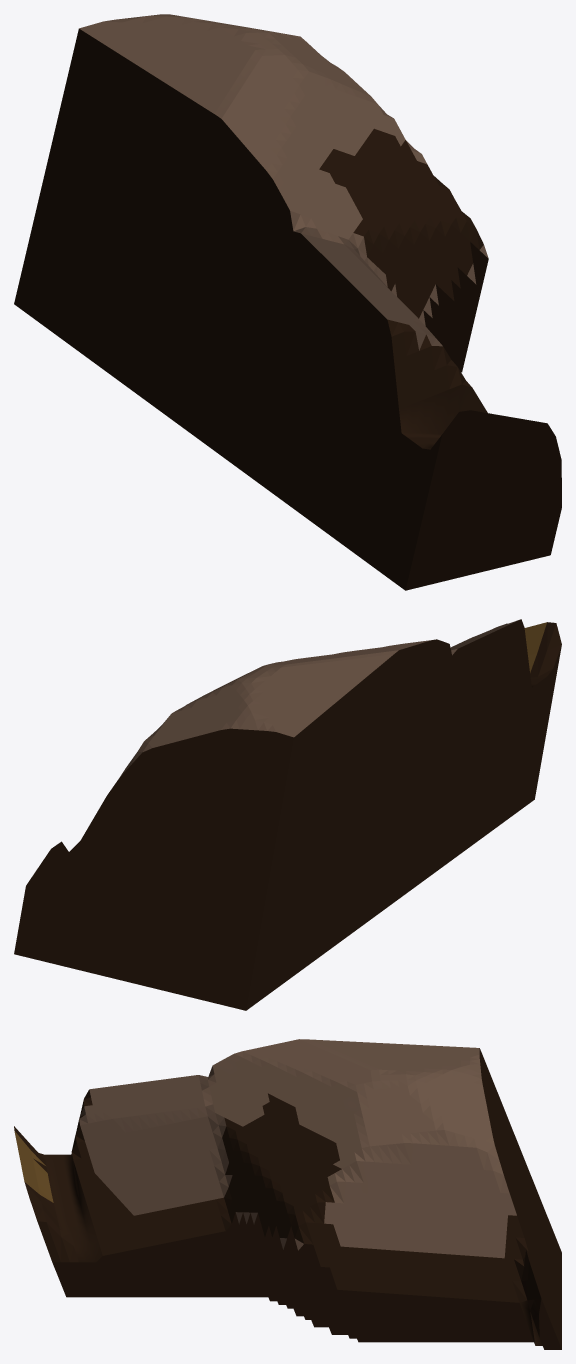
File: ixm_cover_233.glb
3 renders of one model, top to bottom at view 1: azimuth 30°, elevation 25°; view 2: azimuth 150°, elevation 25°; view 3: azimuth 270°, elevation 25°, orthographic. The views are drawn at different scales.
Parts seen in each view (by area): view 1: ixm_cover_233; view 2: ixm_cover_233; view 3: ixm_cover_233.
Boxes of the visible parts, bbox=[...] form: ixm_cover_233: bbox=[14, 14, 561, 590]; ixm_cover_233: bbox=[14, 619, 561, 1010]; ixm_cover_233: bbox=[14, 1039, 561, 1349].
Size of the model in its own units: 13 by 13.31 by 30.96.
